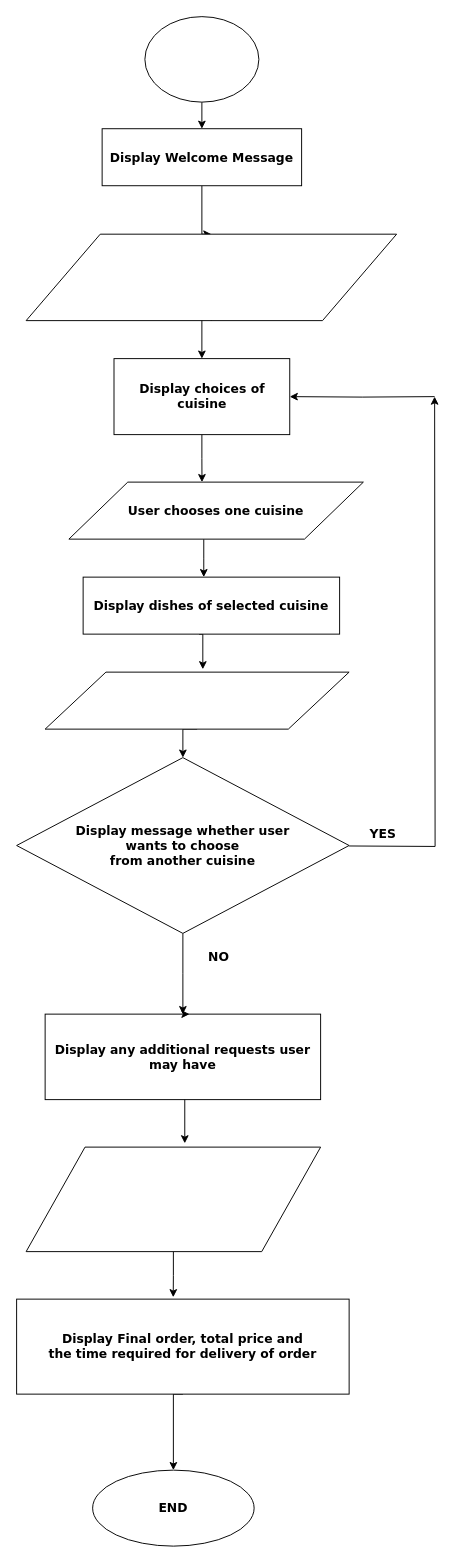
Image size: 460x1563. Some labels were removed from this diagram. The shapes that lost their labels are listed below. From the top down, each one's centre as x and y in pixels, then its label:
At [201,59]: "Start".
At [211,277]: "User signs in with username and password".
At [196,700]: "User chooses one or more dishes".
At [173,1199]: "Input from user on delivery address".
